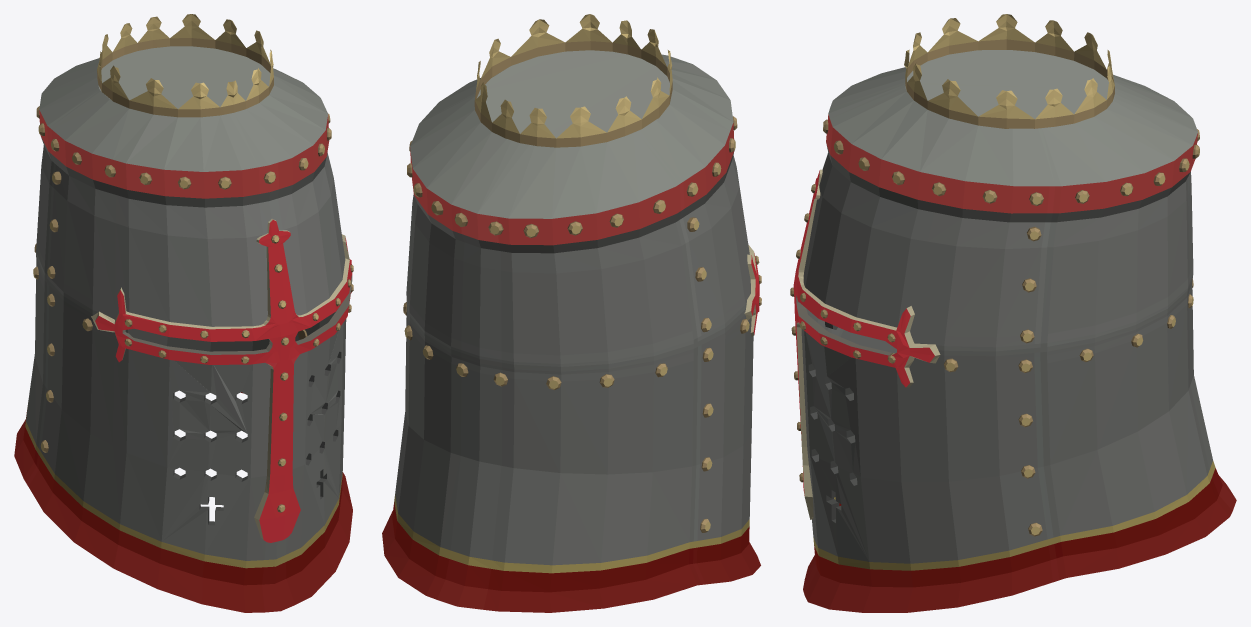
File: bucketHelmetCrown.glb
3 renders of one model, left to right at view 1: azimuth 30°, elevation 25°; view 2: azimuth 150°, elevation 25°; view 3: azimuth 270°, elevation 25°, orthographic. The views are drawn at different scales.
Parts seen in each view (by area): view 1: bucketHelmetCrown; view 2: bucketHelmetCrown; view 3: bucketHelmetCrown.
Part boxes in pixels (x1,y1,x2,y2): bucketHelmetCrown: (14, 14, 353, 612); bucketHelmetCrown: (382, 14, 761, 612); bucketHelmetCrown: (790, 14, 1236, 612).
Bounding box in the file's own units: 0.3002 × 0.5045 × 0.3775.
